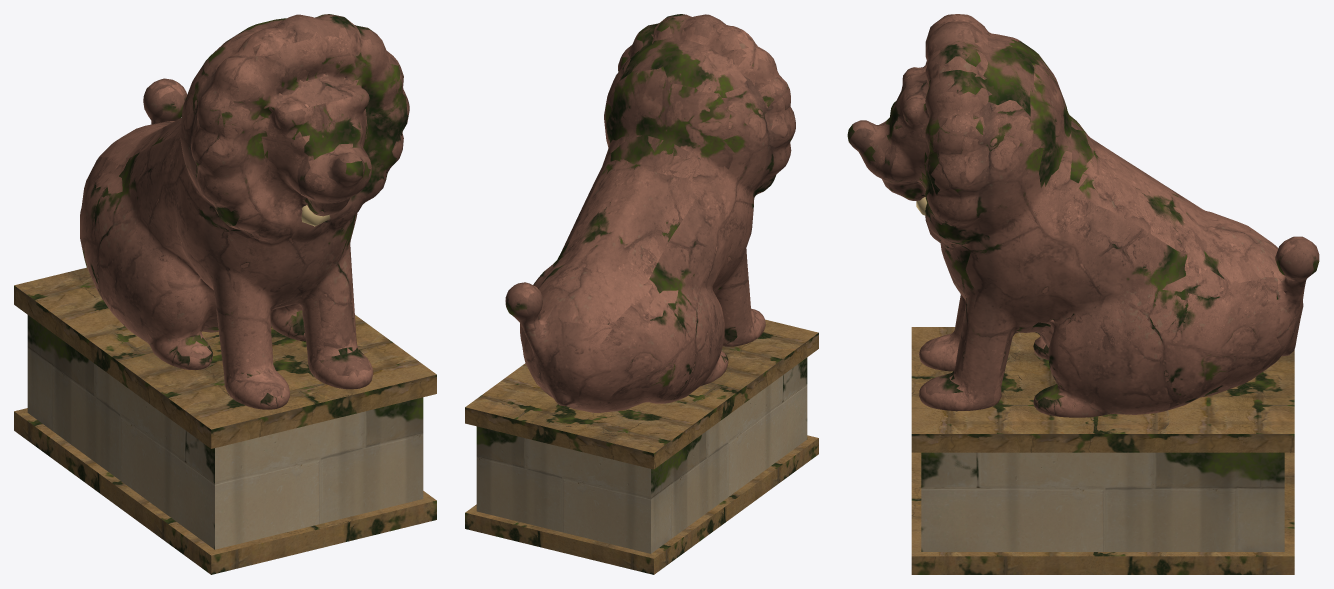
Rendered from LionStatue.fbx.
3 views of the same model, side by side, from view 1: azimuth 30°, elevation 25°; view 2: azimuth 150°, elevation 25°; view 3: azimuth 270°, elevation 25° (orthographic). The views are drawn at different scales.
Parts seen in each view (by area): view 1: LionStatue_LOD0; view 2: LionStatue_LOD0; view 3: LionStatue_LOD0.
Part boxes in pixels (x1=…): LionStatue_LOD0: x1=14, y1=14, x2=436, y2=574; LionStatue_LOD0: x1=465, y1=14, x2=818, y2=574; LionStatue_LOD0: x1=847, y1=14, x2=1319, y2=574.
Size of what is drawn, in the model's own units: 1.95 by 4.24 by 3.64.
